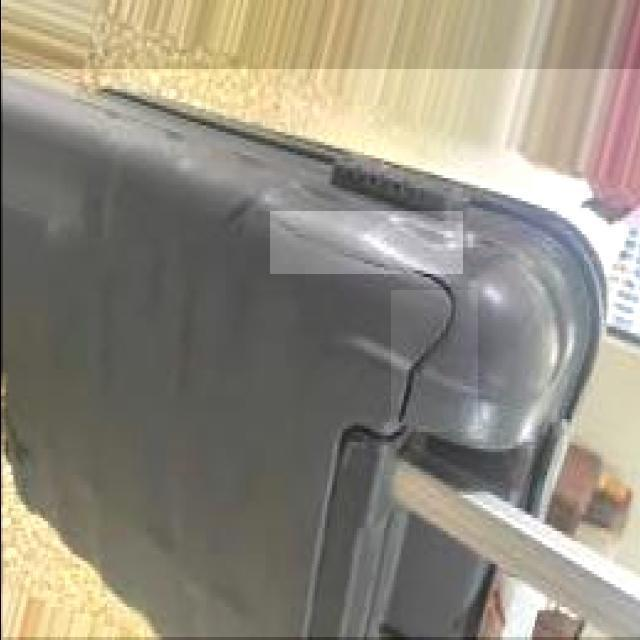Suitcase: (12, 65, 626, 638)
